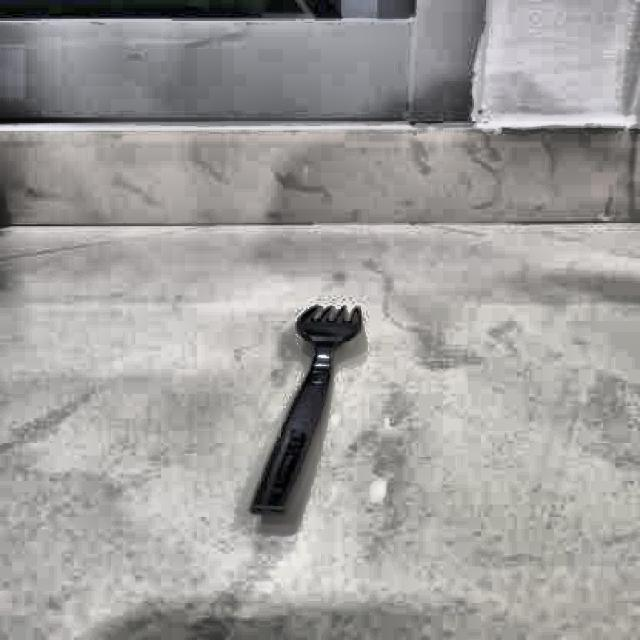plastic utensil: (242, 297, 376, 528)
